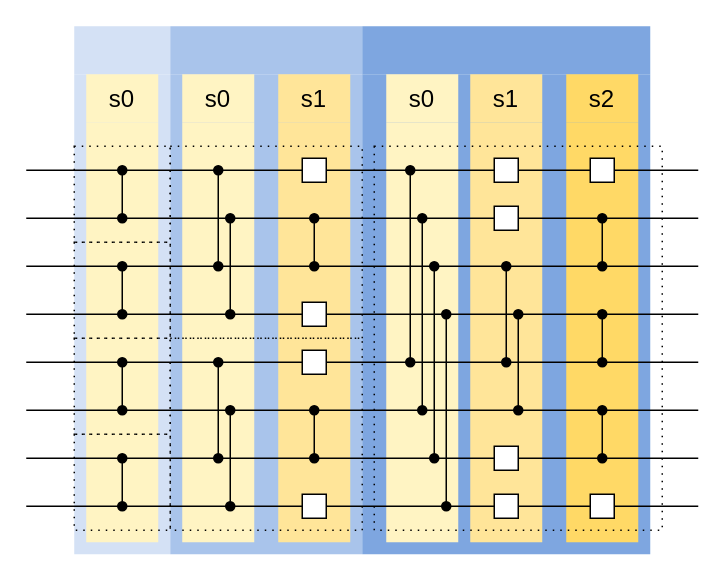
Some shapes in this 726 by 579 pixel diagram are drawn without their labels. Here are the shapes that lost their labels. From the top down, the centre of each, then its label:
At pixel 122 50: "d0".
At pixel 266 50: "d1".
At pixel 506 50: "d2".
